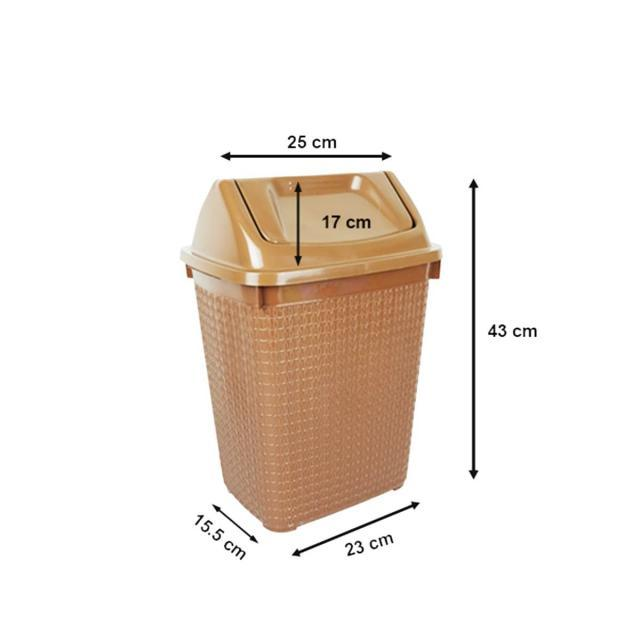Dumpster: (178, 168, 444, 534)
